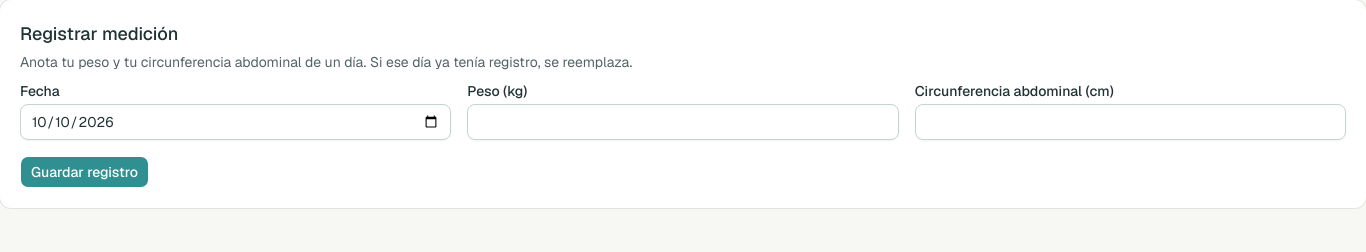
Scenario: MeasurementForm › flags the missing values and does not submit
Step 1. Click the button "Guardar registro" → (84, 172), box [20,156,149,188]
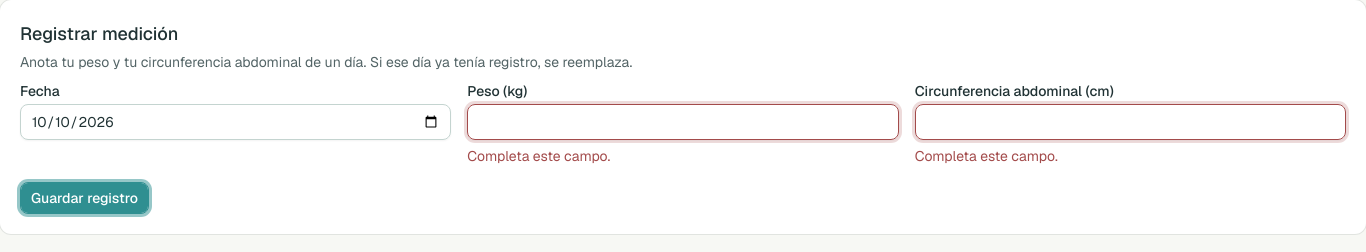
Check: the text "Completa este campo." is shown 2 times, box [467,147,610,165]; [915,147,1058,165]
